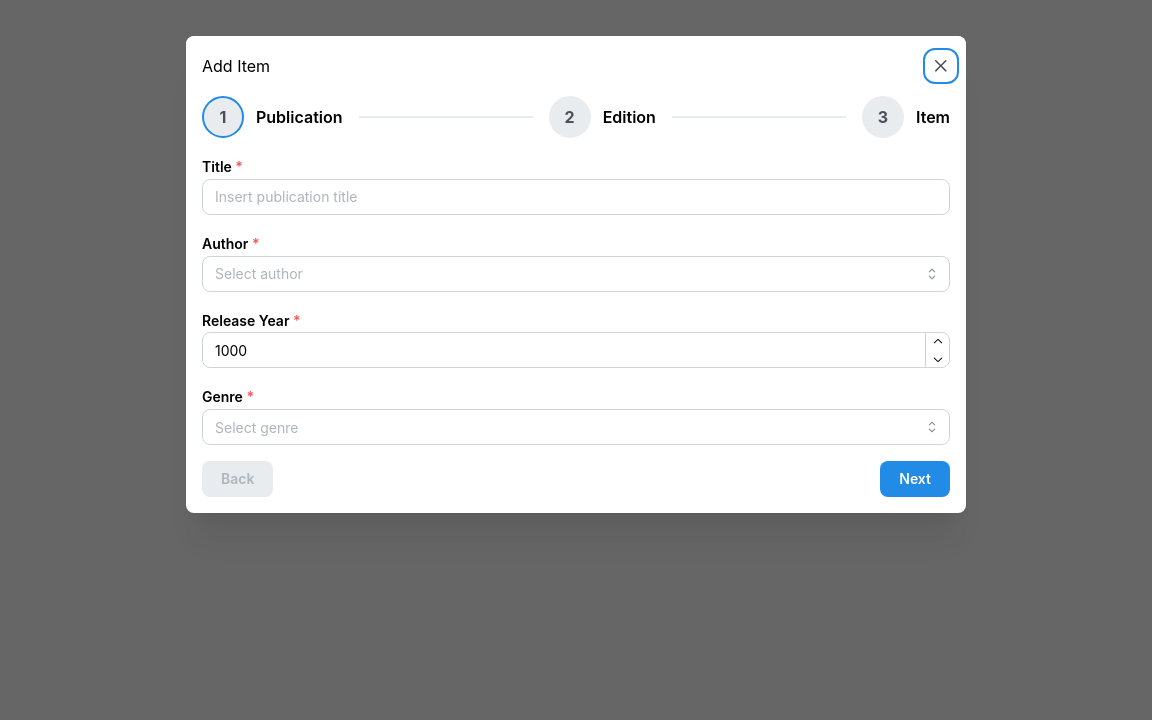
it: AddItemModal › does not advance past the publication step when release year is cleared
In the field labelled "Title *": (576, 197) left=202, top=179, right=950, bottom=215, type "Clean Code"
Click the dropdown labelled "Author *": (576, 274) left=202, top=256, right=950, bottom=292
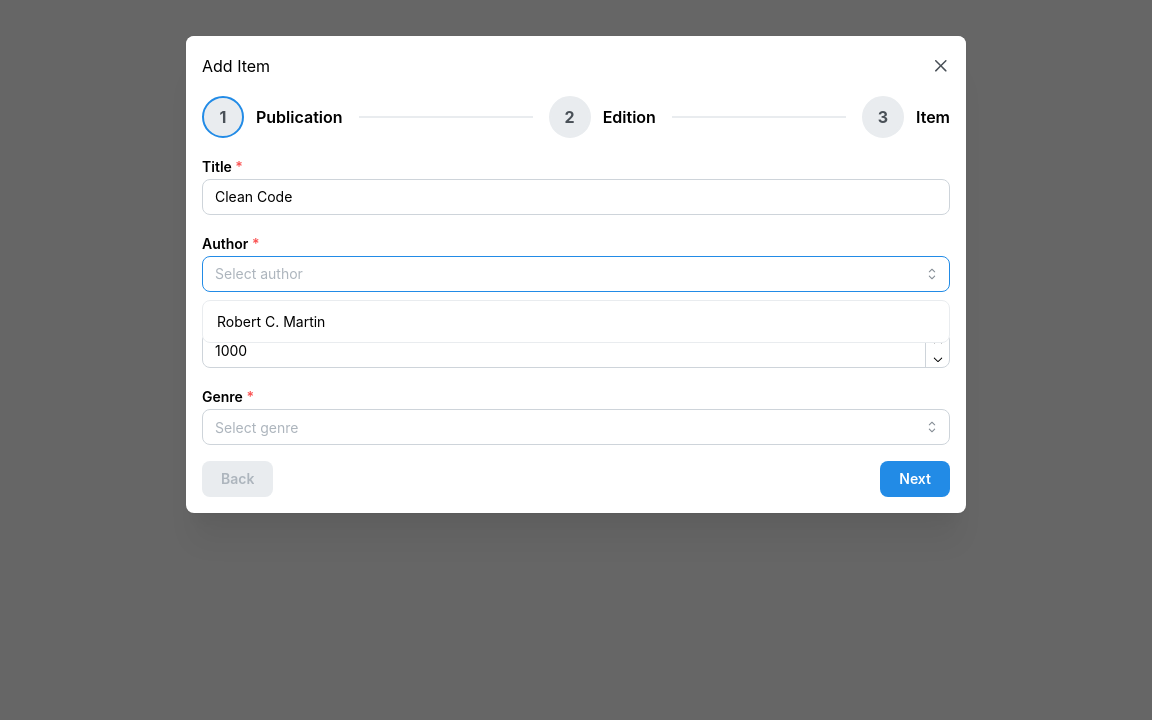
Click the option "Robert C. Martin": (271, 321) left=217, top=313, right=325, bottom=330
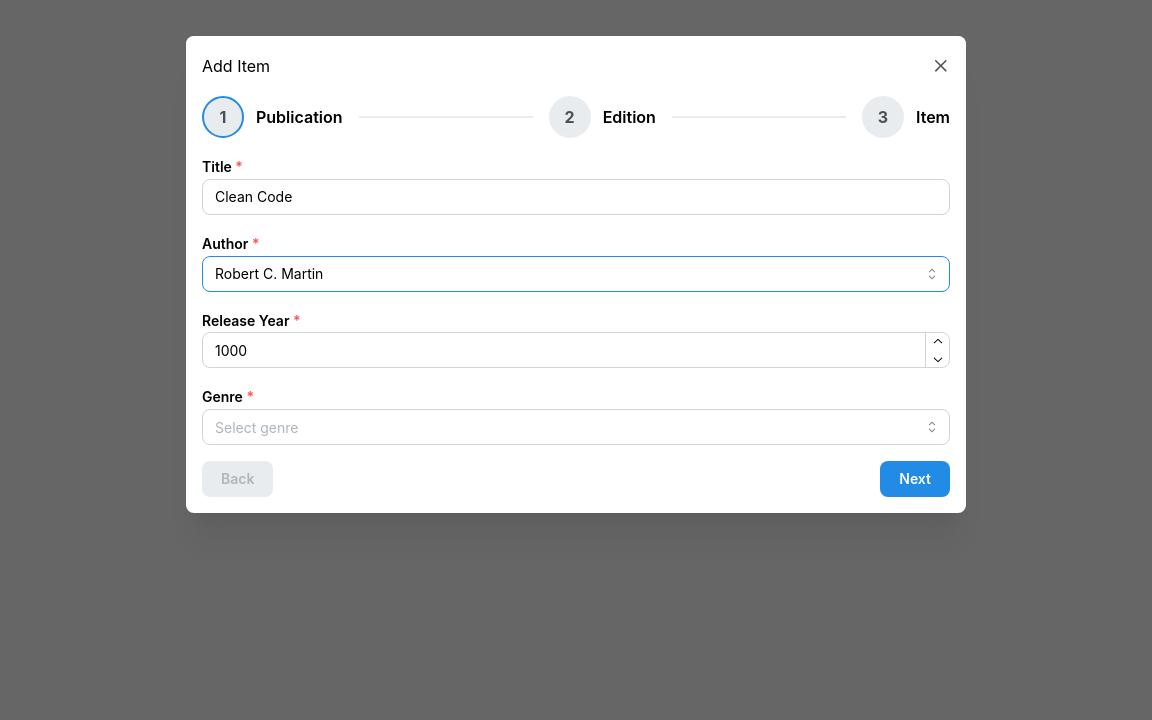
Clear the field labelled "Release Year *": (576, 350) left=202, top=332, right=950, bottom=368
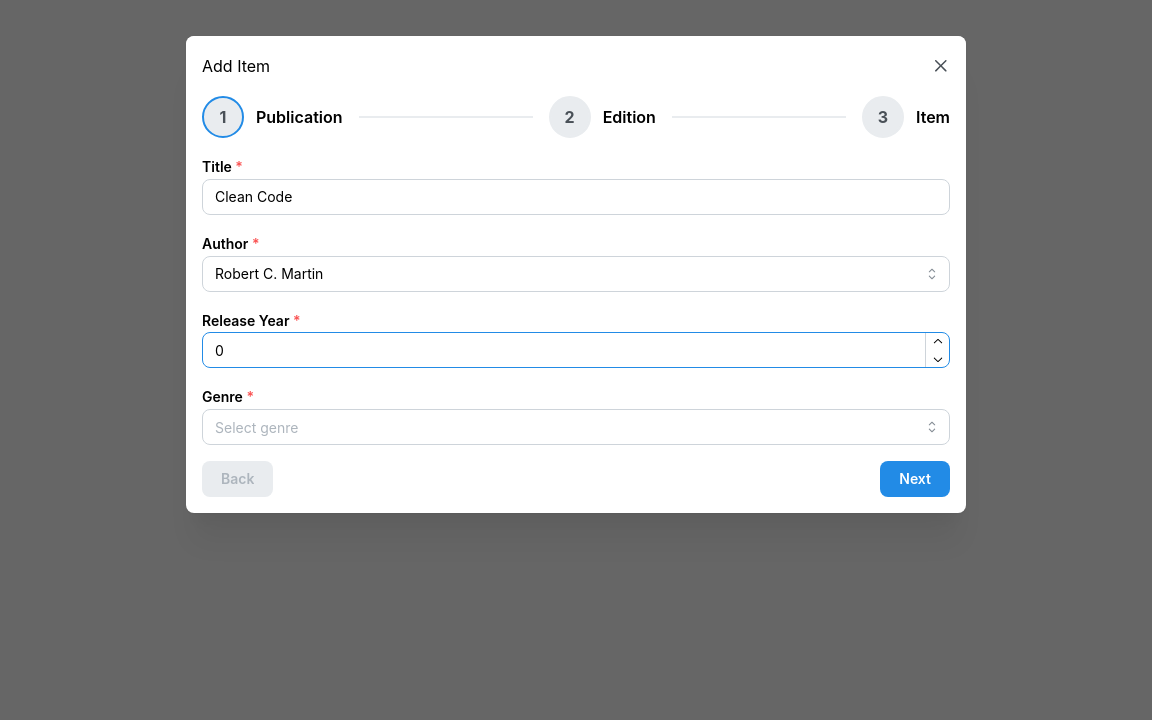
Click the dropdown labelled "Genre *": (576, 427) left=202, top=409, right=950, bottom=445
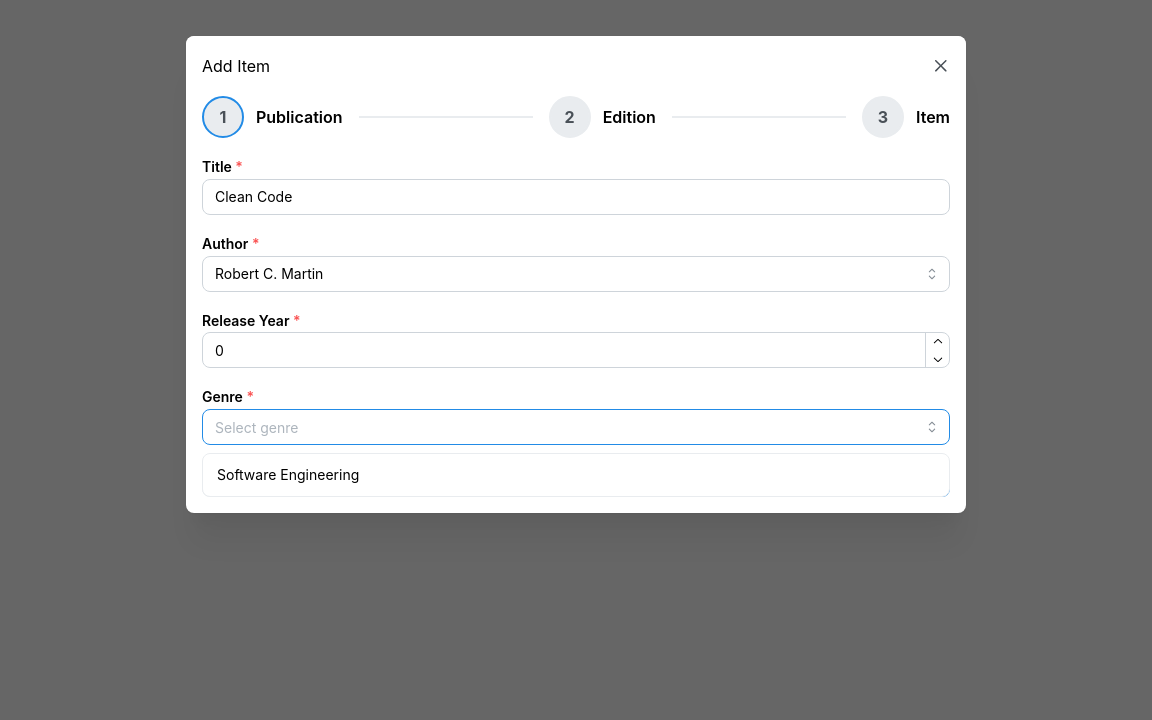
Click the option "Software Engineering": (288, 475) left=217, top=466, right=359, bottom=483
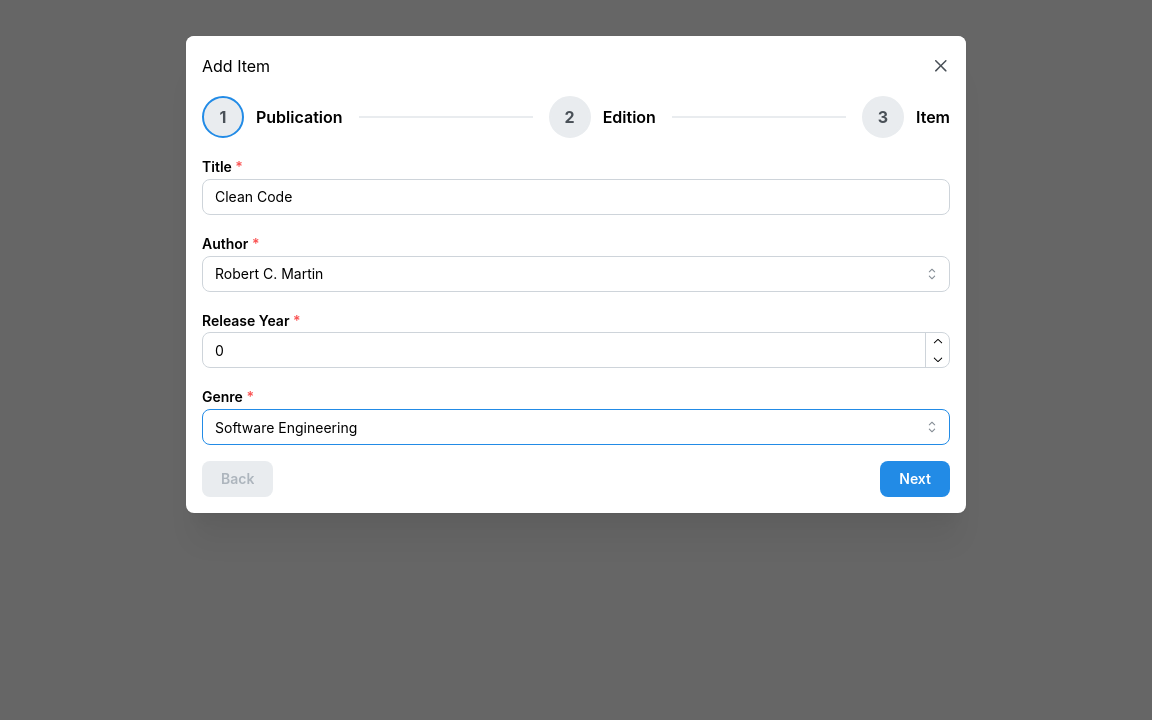
Click the button "Next": (915, 479) left=880, top=461, right=950, bottom=497
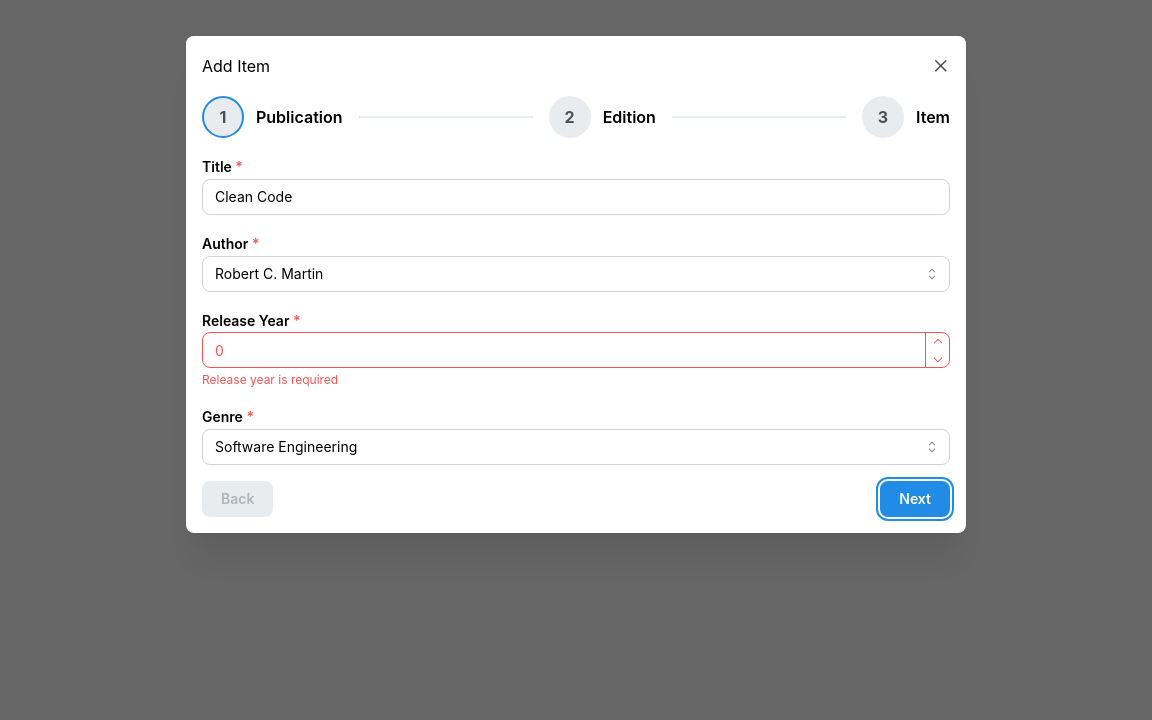
Result: the text "Release year is required" is shown at left=202, top=372, right=338, bottom=387
